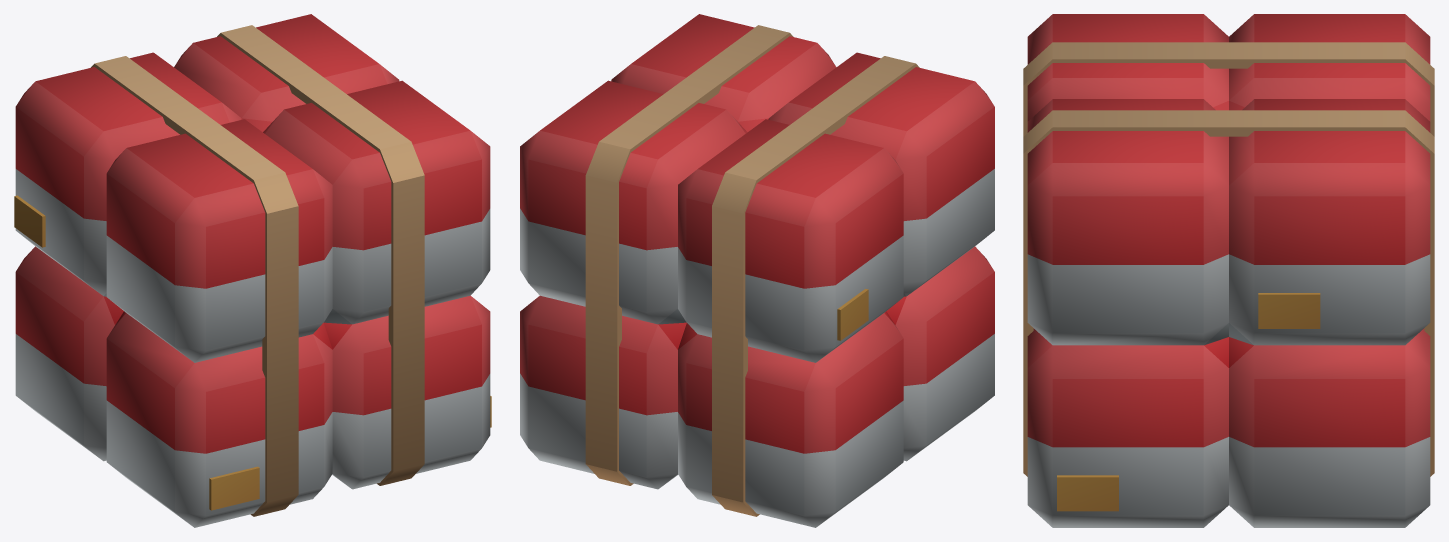
The model's file is space-cargo-a-stacked.glb.
The picture shows the model from 3 angles, left to right: view 1: azimuth 30°, elevation 25°; view 2: azimuth 150°, elevation 25°; view 3: azimuth 270°, elevation 25°; orthographic projection. The views are drawn at different scales.
Parts seen in each view (by area): view 1: cargo_A_stacked; view 2: cargo_A_stacked; view 3: cargo_A_stacked.
Boxes of the visible parts, x1,y1,x2,y2 form: cargo_A_stacked: [14, 14, 491, 527]; cargo_A_stacked: [520, 14, 994, 527]; cargo_A_stacked: [1023, 14, 1434, 527].
Bounding box in the file's own units: 1.02 × 1.02 × 1.02.
